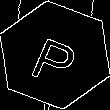P_N: (26, 25, 84, 85)
